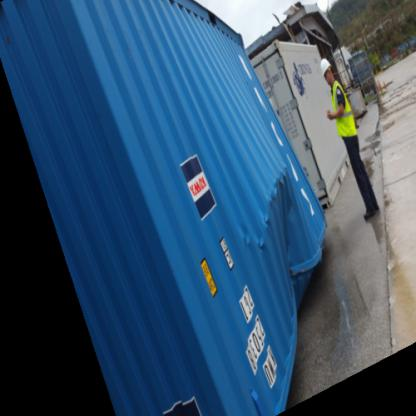Damage: (237, 138, 315, 298)
